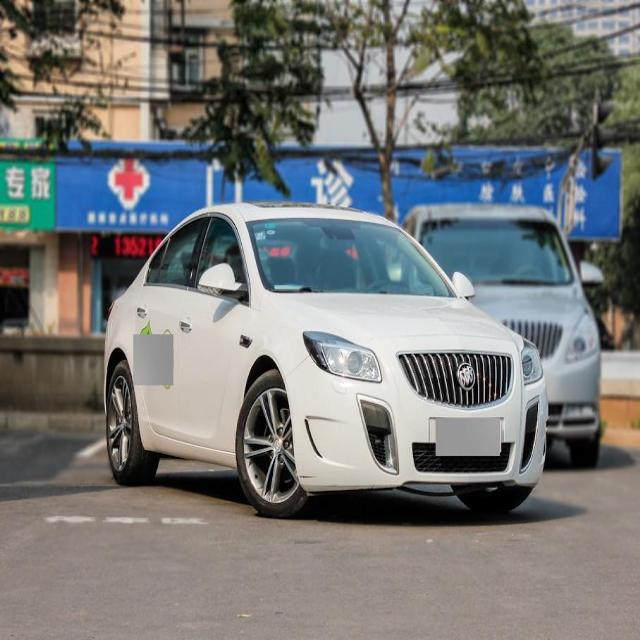door: (140, 214, 212, 448)
front_bumper: (286, 374, 552, 498)
front_glass: (244, 218, 458, 298)
front_left_side_light: (513, 331, 545, 398)
front_left_side_mirror: (451, 270, 477, 302)
front_right_side_door: (173, 201, 260, 474)
front_right_side_light: (300, 329, 384, 387)
front_right_side_mirror: (196, 254, 249, 310)
wheel: (234, 365, 312, 517), (104, 356, 159, 488)
